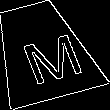M_N: (6, 21, 78, 82)
